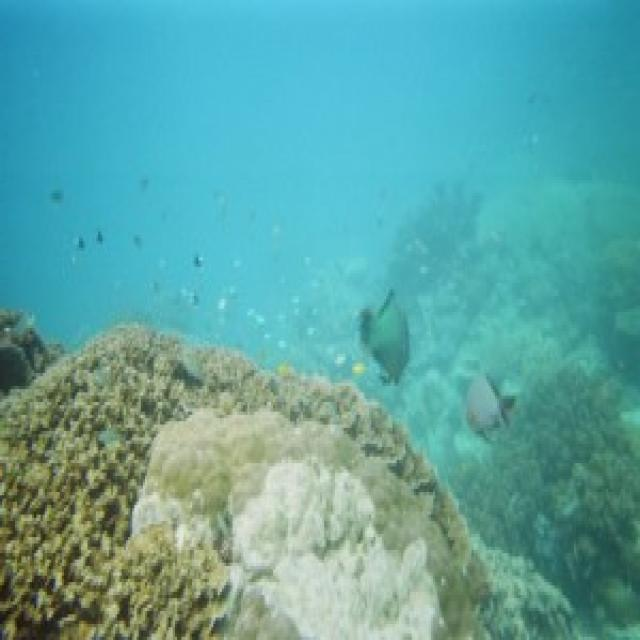Bleached: (216, 449, 477, 640)
Healthy: (1, 335, 133, 640)
